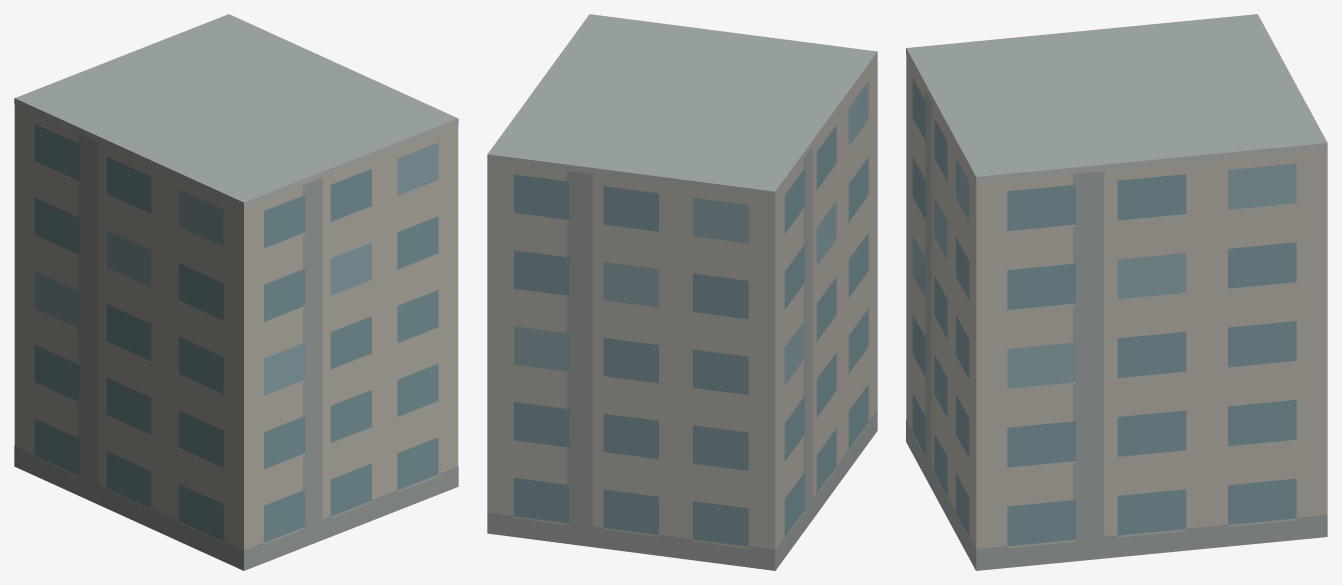
The model's file is survey-upis-32821782.glb.
3 views of the same model, side by side, from view 1: azimuth 30°, elevation 25°; view 2: azimuth 150°, elevation 25°; view 3: azimuth 270°, elevation 25° (orthographic). The views are drawn at different scales.
Visible parts, largest first — view 1: survey-upis-32821782.tmp; view 2: survey-upis-32821782.tmp; view 3: survey-upis-32821782.tmp.
Part boxes in pixels (x1=…): survey-upis-32821782.tmp: x1=14, y1=14, x2=458, y2=570; survey-upis-32821782.tmp: x1=487, y1=14, x2=877, y2=570; survey-upis-32821782.tmp: x1=906, y1=14, x2=1327, y2=570.
Bounding box in the file's own units: 12.87 × 14.5 × 14.07.
